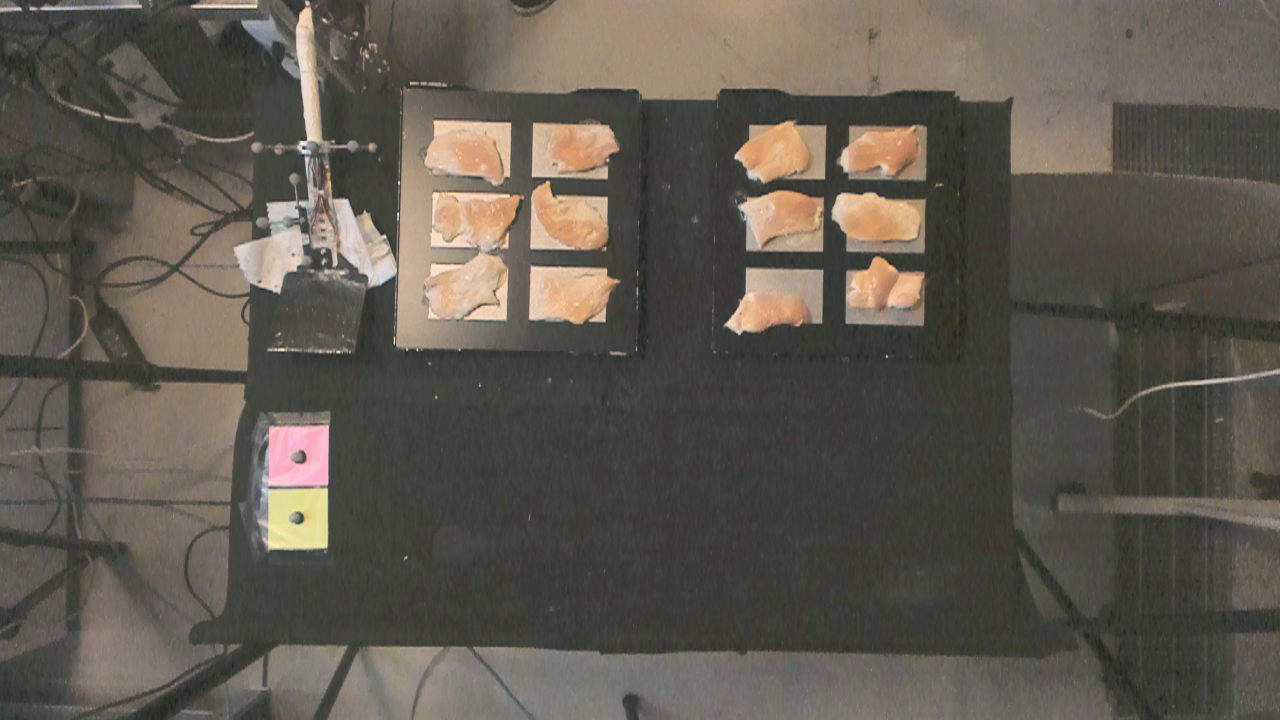chicken: (432, 188, 523, 255), (419, 257, 509, 324), (731, 116, 814, 185), (535, 265, 623, 329), (831, 189, 929, 244), (531, 181, 611, 248), (842, 254, 933, 312), (838, 122, 920, 182), (425, 129, 511, 185), (738, 193, 825, 246), (724, 286, 807, 336), (546, 119, 620, 173)
marker: (267, 425, 330, 486)
